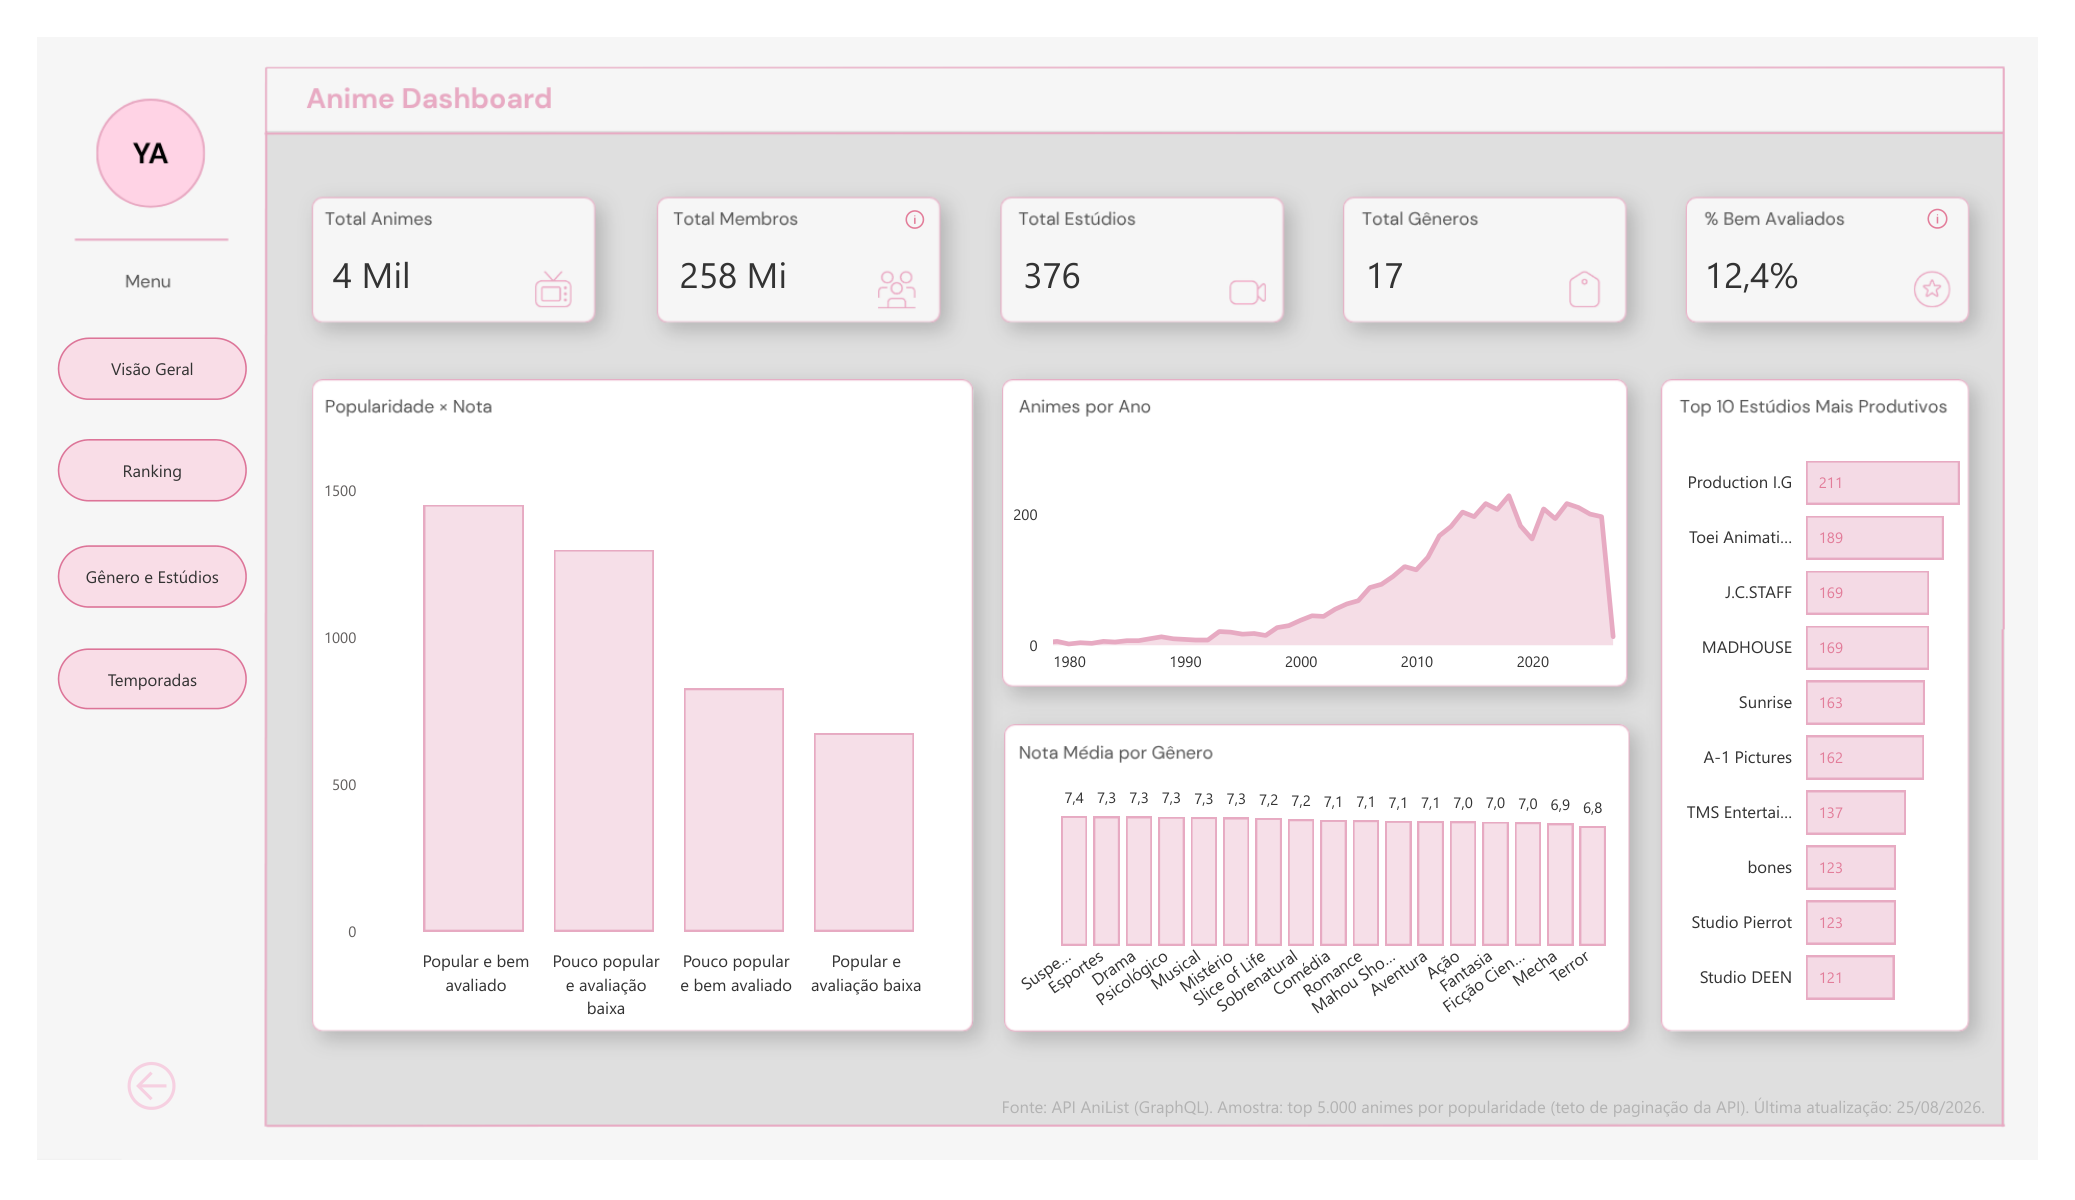

Layout of this report page (visuals, bound fields, positions):
{"tool":"powerbi","page":{"name":"Visão Geral","canvas":[1280,720],"ordinal":0},"visuals":[{"type":"cardVisual","fields":{"Data":["Medidas.Total de Animes"]},"box":[160.5,109.2,178.8,83],"z":0},{"type":"cardVisual","fields":{"Data":["Medidas.Total de Membros"]},"box":[382,109.2,180,83],"z":1000},{"type":"cardVisual","fields":{"Data":["Medidas.Generos Cobertos"]},"box":[821.3,109.2,181.2,83],"z":2000},{"type":"cardVisual","fields":{"Data":["Medidas.Estudios Cobertos"]},"box":[601.6,109.2,181.2,83],"z":3000},{"type":"areaChart","fields":{"Category":["dim_anime.ano"],"Y":["Medidas.Total de Animes"]},"box":[619.3,248.7,397.3,166.5],"z":4000},{"type":"cardVisual","fields":{"Data":["Medidas.% Titulos Bem Avaliados"]},"box":[1037.9,109.2,178.8,83],"z":5000},{"type":"columnChart","fields":{"Category":["vw_quadrante_popularidade_nota.quadrante"],"Y":["Medidas.Qtd Animes por Quadrante"]},"box":[177.6,256.9,424.1,378.9],"z":6000},{"type":"lineClusteredColumnComboChart","fields":{"Category":["dim_genero.nome_genero_pt"],"Y":["Medidas.Nota Media"]},"box":[619.8,465.6,397.6,170.2],"z":7000},{"type":"barChart","fields":{"Category":["dim_estudio.nome_estudio"],"Y":["Medidas.Qtd Animes por Estudio (contexto)"]},"box":[1037.6,243.6,197.7,391.6],"z":8000},{"type":"shape","box":[12.8,192,121.2,39.5],"z":9000},{"type":"shape","box":[12.8,257,121.2,39.5],"z":10000},{"type":"shape","box":[12.8,325.3,121.2,39.5],"z":11000},{"type":"shape","box":[12.8,391,121.2,39.5],"z":12000},{"type":"actionButton","box":[550.8,102.5,21.6,27.2],"z":13000},{"type":"actionButton","box":[1205.4,102.5,21.6,27.2],"z":14000},{"type":"textbox","box":[612.1,671.4,644.2,26.5],"z":15000},{"type":"actionButton","box":[51.9,648.6,42.1,44.5],"z":16000}]}

Visuals, with their boxes on the page's 1280x720 design canvas (x1, y1, x2, y2). These are canvas units, not pixel positions in the 2075x1200 screenshot, which may show the page scaled, cropped or inside an application window:
cardVisual - Medidas.Total de Animes: box(160, 109, 339, 192)
cardVisual - Medidas.Total de Membros: box(382, 109, 562, 192)
cardVisual - Medidas.Generos Cobertos: box(821, 109, 1002, 192)
cardVisual - Medidas.Estudios Cobertos: box(602, 109, 783, 192)
areaChart - dim_anime.ano x Medidas.Total de Animes: box(619, 249, 1017, 415)
cardVisual - Medidas.% Titulos Bem Avaliados: box(1038, 109, 1217, 192)
columnChart - vw_quadrante_popularidade_nota.quadrante x Medidas.Qtd Animes por Quadrante: box(178, 257, 602, 636)
lineClusteredColumnComboChart - dim_genero.nome_genero_pt x Medidas.Nota Media: box(620, 466, 1017, 636)
barChart - dim_estudio.nome_estudio x Medidas.Qtd Animes por Estudio (contexto): box(1038, 244, 1235, 635)
shape: box(13, 192, 134, 232)
shape: box(13, 257, 134, 296)
shape: box(13, 325, 134, 365)
shape: box(13, 391, 134, 430)
actionButton: box(551, 102, 572, 130)
actionButton: box(1205, 102, 1227, 130)
textbox: box(612, 671, 1256, 698)
actionButton: box(52, 649, 94, 693)
